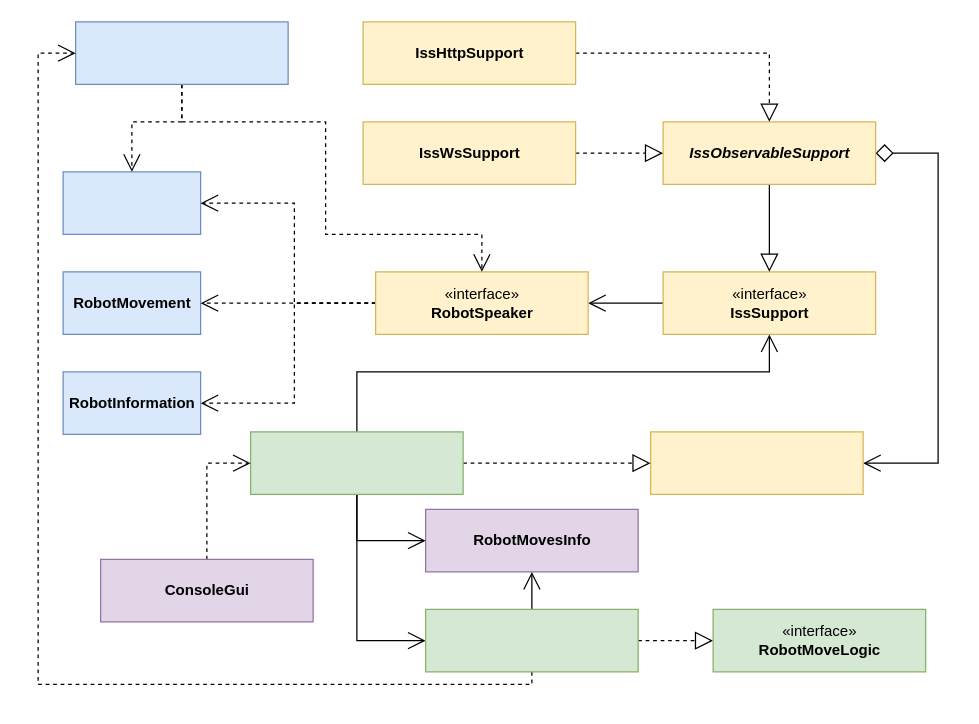
Image size: 979x724. Some labels were removed from this diagram. Each missing label, with the centre of its shape:
"RobotBoundaryLogic" belongs at point 531,640.
"RobotCommand" belongs at point 131,202.
"RobotController" belongs at point 356,462.
"«interface» CommandFactory" belongs at point 181,52.
"«interface» IssSupportObserver" belongs at point 756,462.
